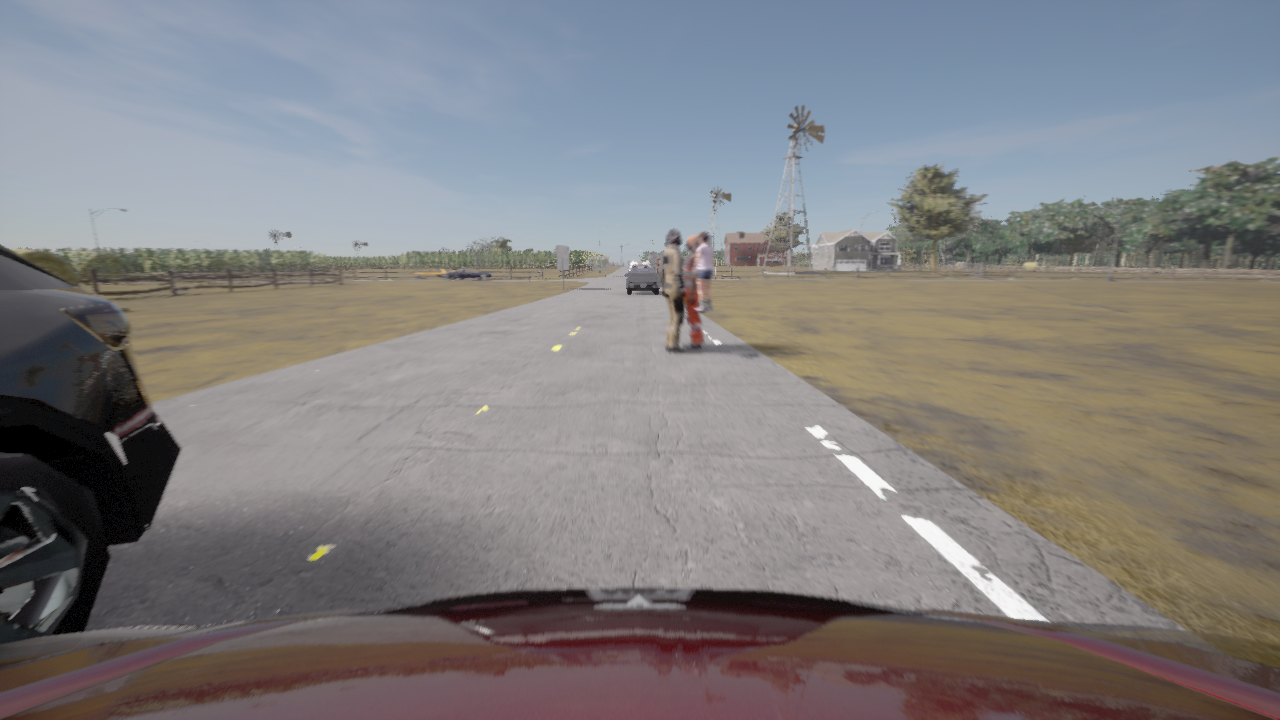cyclist: (0, 588, 1279, 719), (626, 268, 659, 293), (410, 266, 455, 279), (447, 268, 493, 280), (628, 261, 649, 273), (683, 267, 684, 268)
pedestrian: (659, 229, 685, 352), (683, 235, 703, 349), (693, 231, 713, 311), (211, 272, 216, 284)
